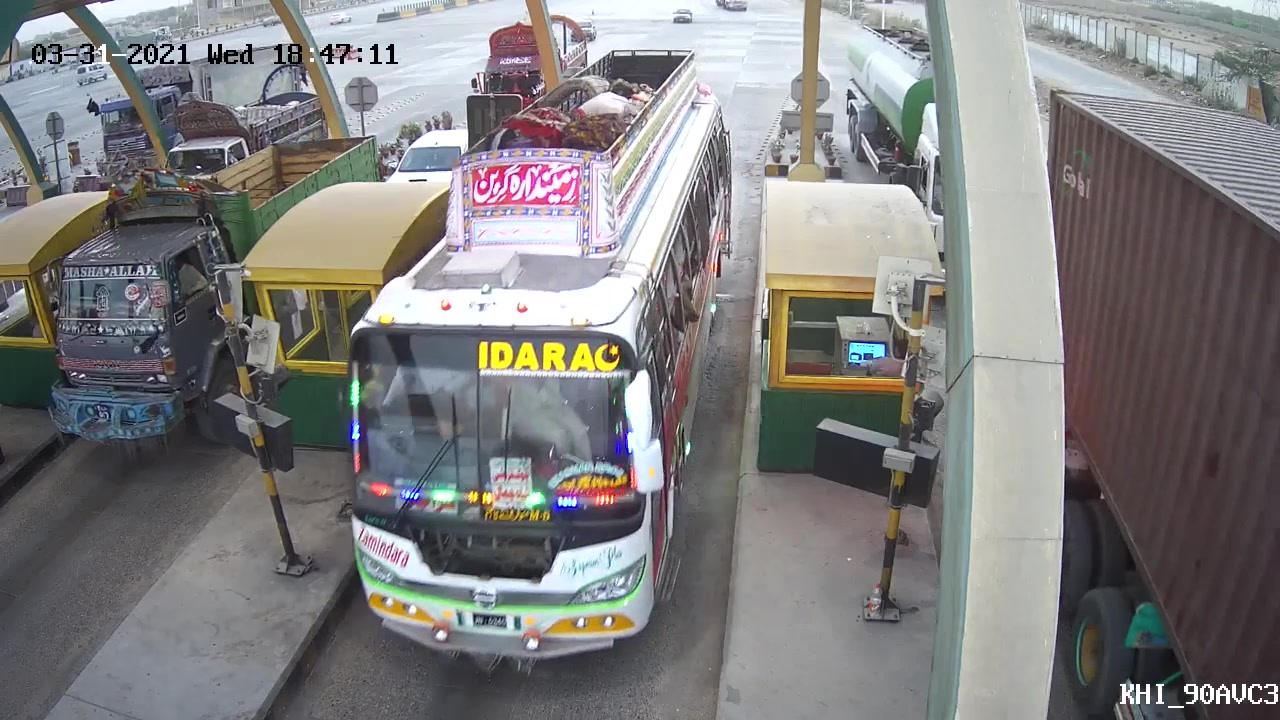F4: (328, 40, 743, 674)
